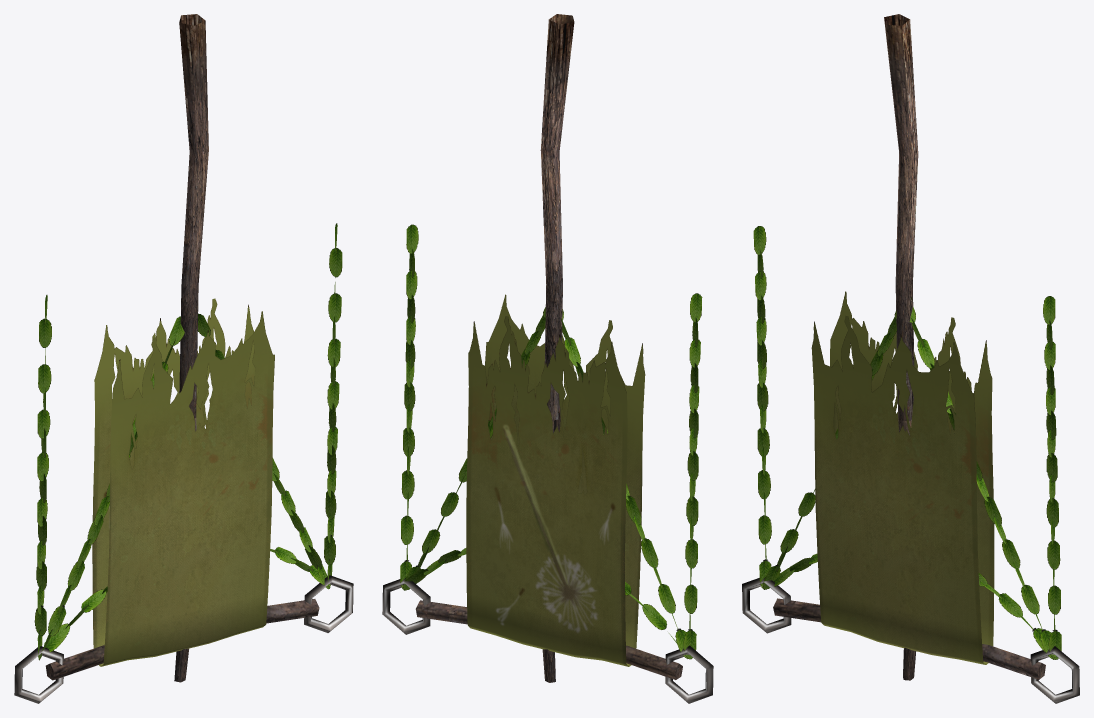
Rendered from starting_flag.fbx.
3 renders of one model, left to right at view 1: azimuth 30°, elevation 25°; view 2: azimuth 150°, elevation 25°; view 3: azimuth 330°, elevation 25°, orthographic. The views are drawn at different scales.
Visible parts, largest first — view 1: polySurface7, polySurface2, polySurface18, polySurface20, polySurface1, polySurface19, polySurface21, polySurface4, polySurface5, polySurface15, polySurface14, polySurface9 (+1 smaller); view 2: polySurface7, polySurface2, polySurface20, polySurface18, polySurface1, polySurface14, polySurface19, polySurface21, polySurface9, polySurface5, polySurface4, polySurface16 (+1 smaller); view 3: polySurface7, polySurface2, polySurface18, polySurface20, polySurface1, polySurface9, polySurface21, polySurface19, polySurface14, polySurface4, polySurface5, polySurface10 (+1 smaller).
Part boxes in pixels (x1,y1,x2,y2): polySurface7: (92,298,274,666); polySurface2: (174,14,208,682); polySurface18: (327,248,342,588); polySurface20: (37,318,51,660); polySurface1: (45,599,319,680); polySurface19: (324,223,337,564); polySurface21: (34,295,47,635); polySurface4: (304,575,353,632); polySurface5: (14,646,63,703); polySurface15: (48,338,175,636); polySurface14: (39,316,184,659); polySurface9: (197,313,329,589); polySurface7: (466,294,645,666); polySurface2: (540,14,574,682); polySurface20: (683,318,698,659); polySurface18: (400,249,415,590); polySurface1: (415,600,682,679); polySurface14: (560,318,690,659); polySurface19: (406,224,418,566); polySurface21: (689,293,702,634); polySurface9: (403,315,545,589); polySurface5: (665,645,713,703); polySurface4: (382,578,430,634); polySurface16: (405,550,666,629); polySurface7: (811,291,994,664); polySurface2: (884,14,918,680); polySurface18: (1046,320,1061,659); polySurface20: (757,250,771,589); polySurface1: (773,598,1045,679); polySurface9: (911,318,1056,659); polySurface21: (753,226,766,565); polySurface19: (1043,296,1055,635); polySurface14: (762,316,896,589); polySurface4: (1030,646,1079,703); polySurface5: (742,577,791,633); polySurface10: (909,307,1043,632).
Bounding box in the file's own units: 179 × 338 × 22.15.
2 materials, 2 textured.
